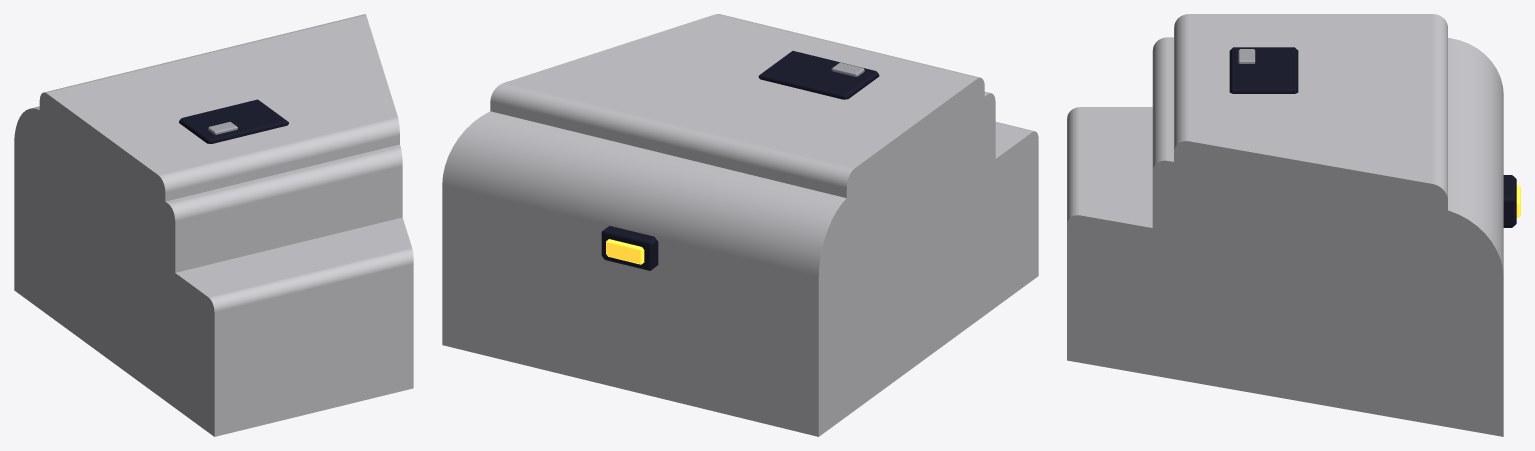
Rendered from roof.shoulder.straight.hatch.s3.c0_22.5.glb.
3 views of the same model, side by side, from view 1: azimuth 30°, elevation 25°; view 2: azimuth 150°, elevation 25°; view 3: azimuth 270°, elevation 25° (orthographic). The views are drawn at different scales.
Parts seen in each view (by area): view 1: roof.shoulder.straight.hatch.s3.c0_22.5; view 2: roof.shoulder.straight.hatch.s3.c0_22.5; view 3: roof.shoulder.straight.hatch.s3.c0_22.5.
Part boxes in pixels (box(x1,y1,x2,y2)): roof.shoulder.straight.hatch.s3.c0_22.5: box(14, 14, 413, 436); roof.shoulder.straight.hatch.s3.c0_22.5: box(442, 14, 1038, 436); roof.shoulder.straight.hatch.s3.c0_22.5: box(1067, 14, 1520, 436).
Size of the model in its own units: 1.01 by 0.64 by 1.06.
